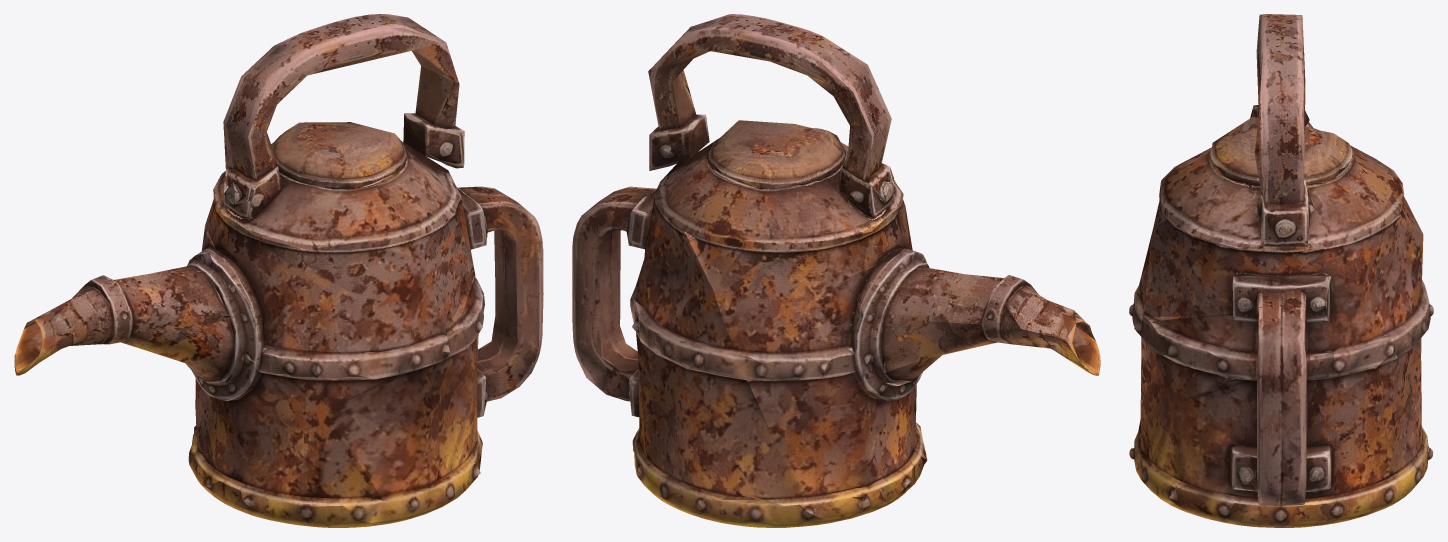
File: oilcan.glb
The picture shows the model from 3 angles, left to right: view 1: azimuth 30°, elevation 25°; view 2: azimuth 150°, elevation 25°; view 3: azimuth 270°, elevation 25°; orthographic projection.
Parts seen in each view (by area): view 1: Mesh_0; view 2: Mesh_0; view 3: Mesh_0.
Boxes of the visible parts, x1=… form: Mesh_0: x1=14, y1=14, x2=543, y2=527; Mesh_0: x1=572, y1=14, x2=1100, y2=527; Mesh_0: x1=1129, y1=14, x2=1433, y2=527.
Bounding box in the file's own units: 1.9 × 1.54 × 0.9651.
1 material, 1 textured.
